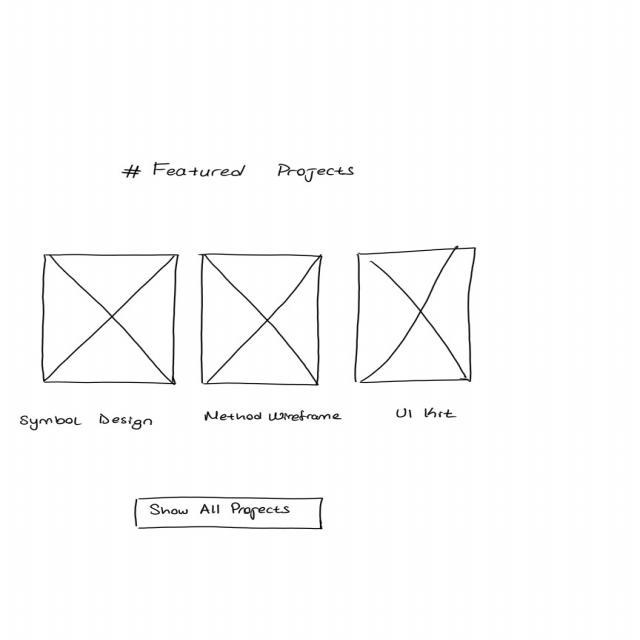button: (130, 495, 326, 532)
image: (40, 252, 179, 386), (353, 246, 478, 386), (199, 251, 323, 387)
label: (122, 160, 355, 183), (19, 414, 154, 431), (204, 408, 342, 422), (395, 406, 458, 420)
